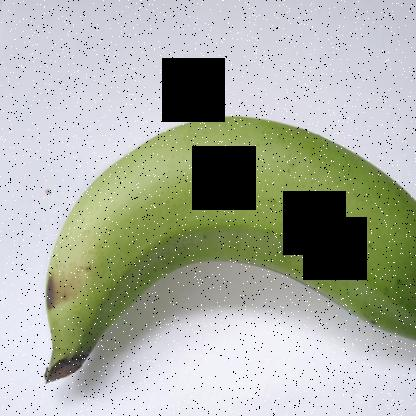freshunripe: (32, 87, 416, 404)
